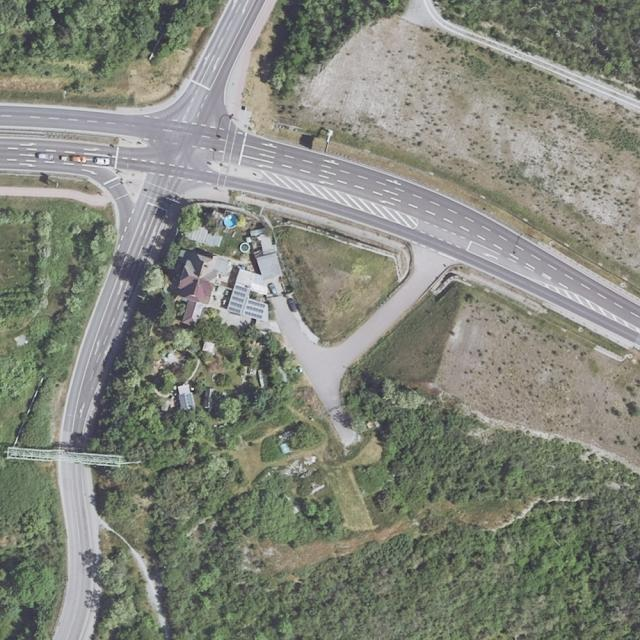PV: (228, 284, 266, 320), (178, 393, 186, 409), (186, 393, 194, 406)
